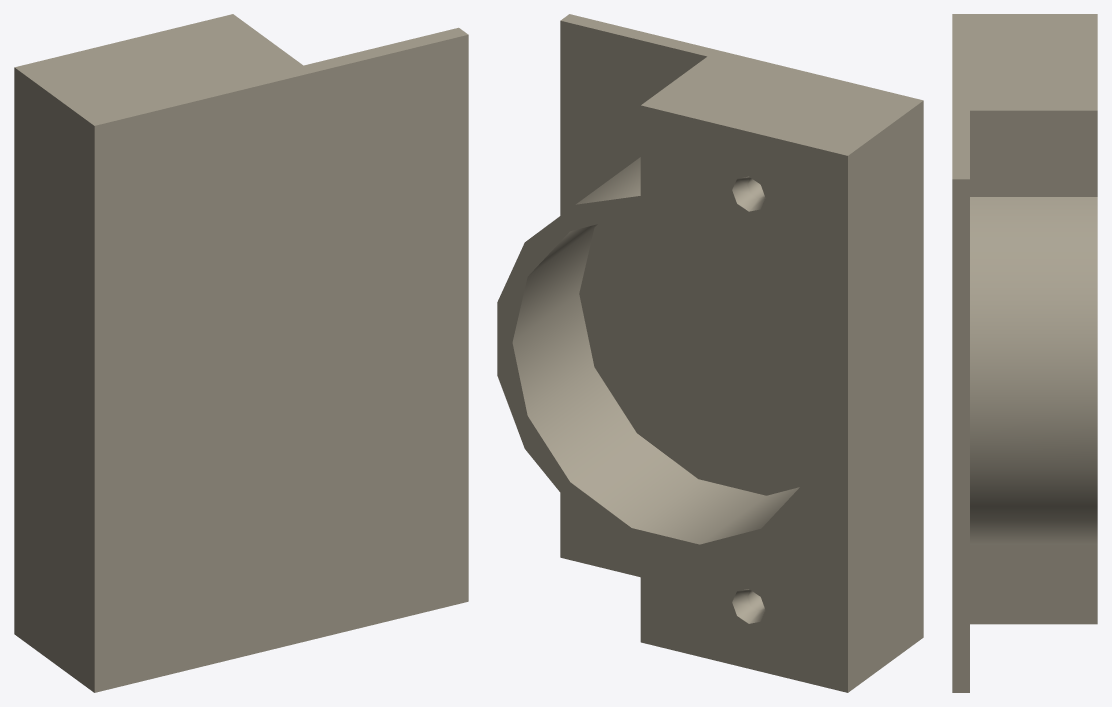
3 renders of one model, left to right at view 1: azimuth 30°, elevation 25°; view 2: azimuth 150°, elevation 25°; view 3: azimuth 270°, elevation 25°, orthographic. The views are drawn at different scales.
Parts seen in each view (by area): view 1: bau2463069651; view 2: bau2463069651; view 3: bau2463069651.
Part boxes in pixels (x1,y1,x2,y2): bau2463069651: (14, 14, 468, 692); bau2463069651: (497, 14, 923, 692); bau2463069651: (952, 14, 1097, 692).
Size of the model in its own units: 40.47 by 58.62 by 15.
